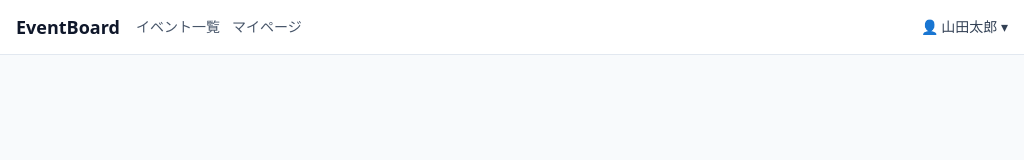
Header › ユーザーメニューのトグルボタンクリックでメニューの開閉が切り替わること
The image size is (1024, 160).
Expected: the button "ログアウト" is not shown
Click the button "👤 山田太郎 ▾".
click(964, 26)  # box [921,16,1008,36]
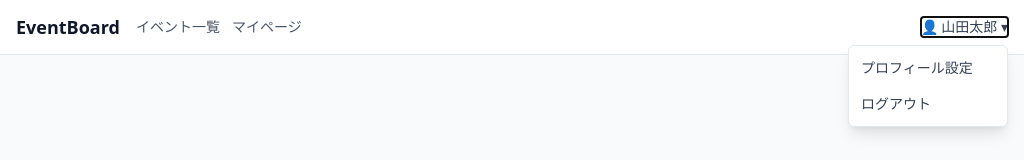
Expected: the button "ログアウト" is shown, [849,86,1007,122]
Click the button "👤 山田太郎 ▾".
click(964, 26)  # box [921,16,1008,36]
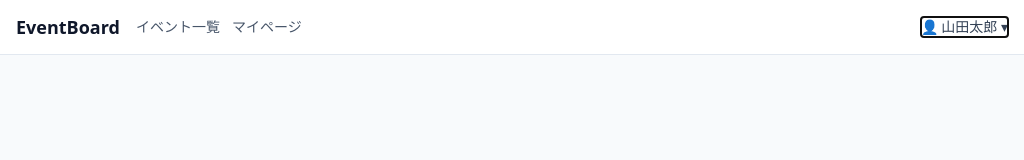
Expected: the button "ログアウト" is gone
